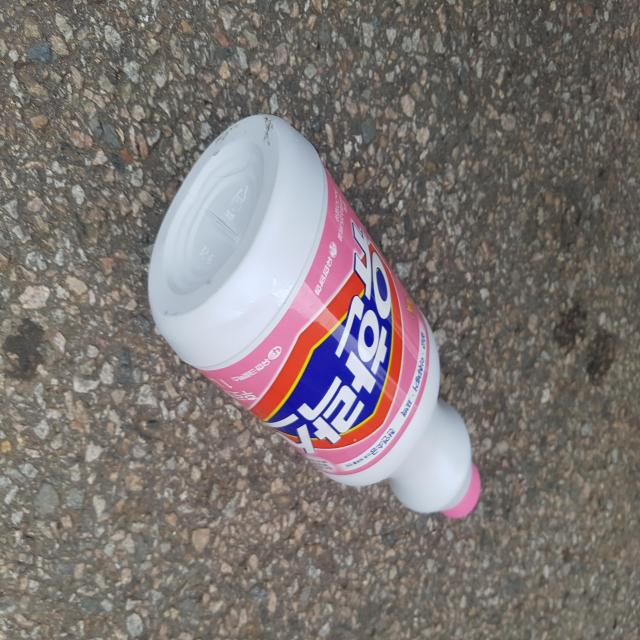bottle: (147, 101, 484, 521)
